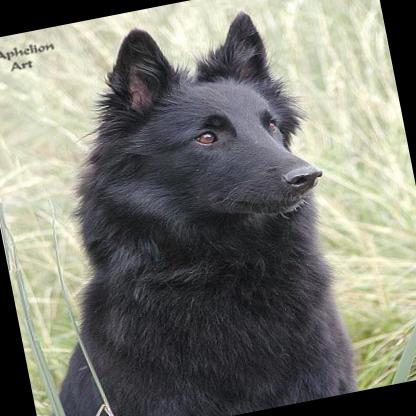groenendael: (0, 0, 365, 416)
